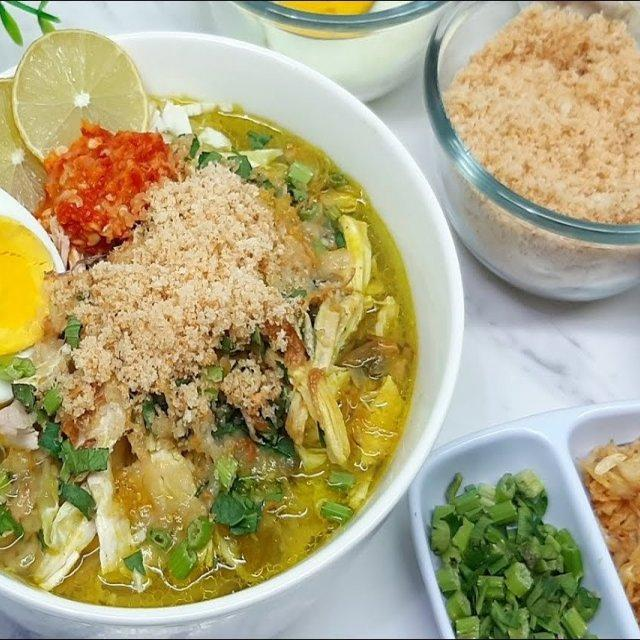Soto: (1, 91, 415, 604)
